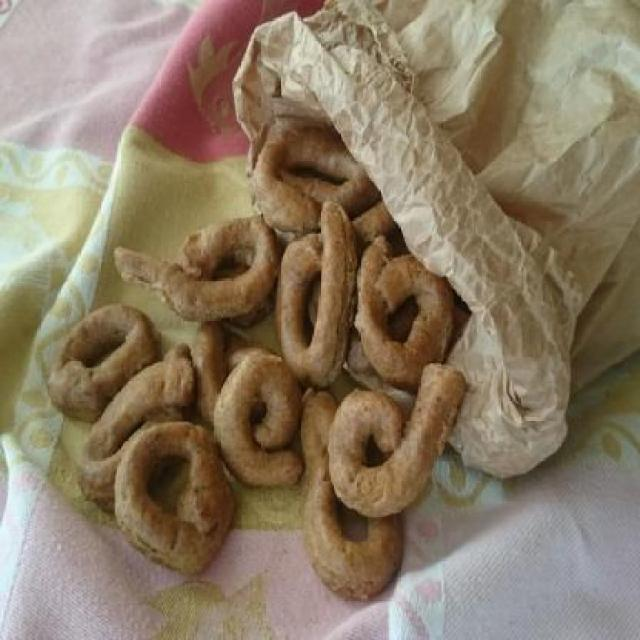Taralli: (40, 129, 474, 606)
